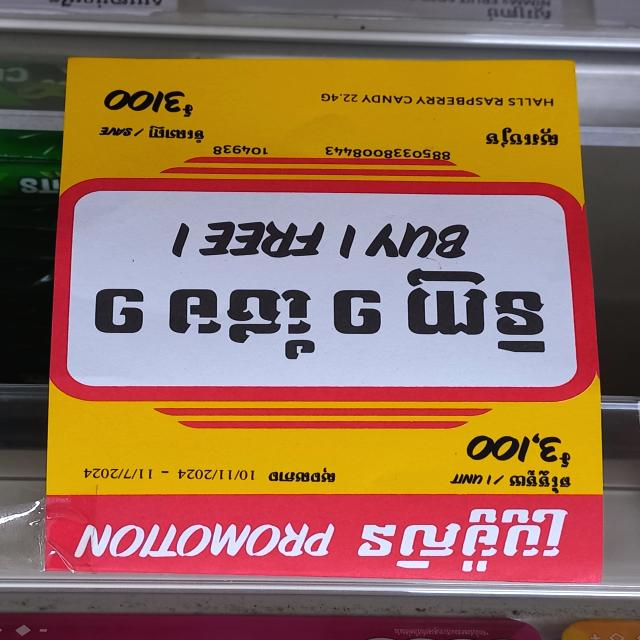503: (153, 215, 196, 263), (330, 218, 367, 263)
531: (71, 465, 258, 486)
543: (210, 144, 273, 159)
662: (328, 90, 360, 106)
718: (462, 434, 566, 465), (100, 89, 188, 115)
867: (320, 144, 456, 161)
Yolov11_80vkh: (87, 269, 555, 368), (352, 506, 578, 579), (481, 122, 563, 153), (139, 122, 206, 147), (505, 471, 573, 495), (260, 468, 338, 487)
